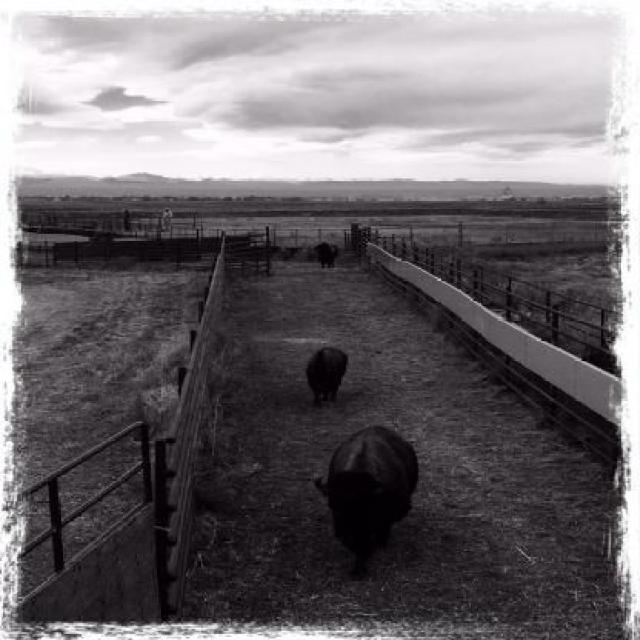Boar: (315, 425, 420, 560), (306, 346, 349, 403), (311, 243, 343, 271)
